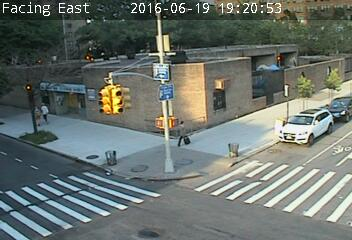neg: (167, 187, 190, 217), (303, 171, 325, 201), (283, 109, 305, 138), (147, 41, 168, 70), (56, 170, 75, 195), (244, 173, 262, 198), (9, 43, 25, 64), (308, 50, 323, 71), (33, 133, 48, 154), (223, 137, 238, 157), (102, 90, 115, 107), (106, 148, 119, 165), (133, 164, 146, 181), (220, 80, 233, 97), (273, 84, 284, 99)
pos: (169, 117, 190, 144), (38, 101, 54, 122), (30, 105, 43, 122)
